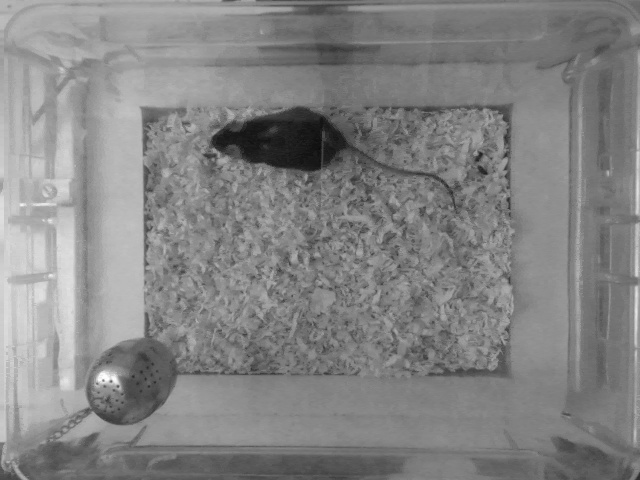mice: (207, 104, 466, 216)
